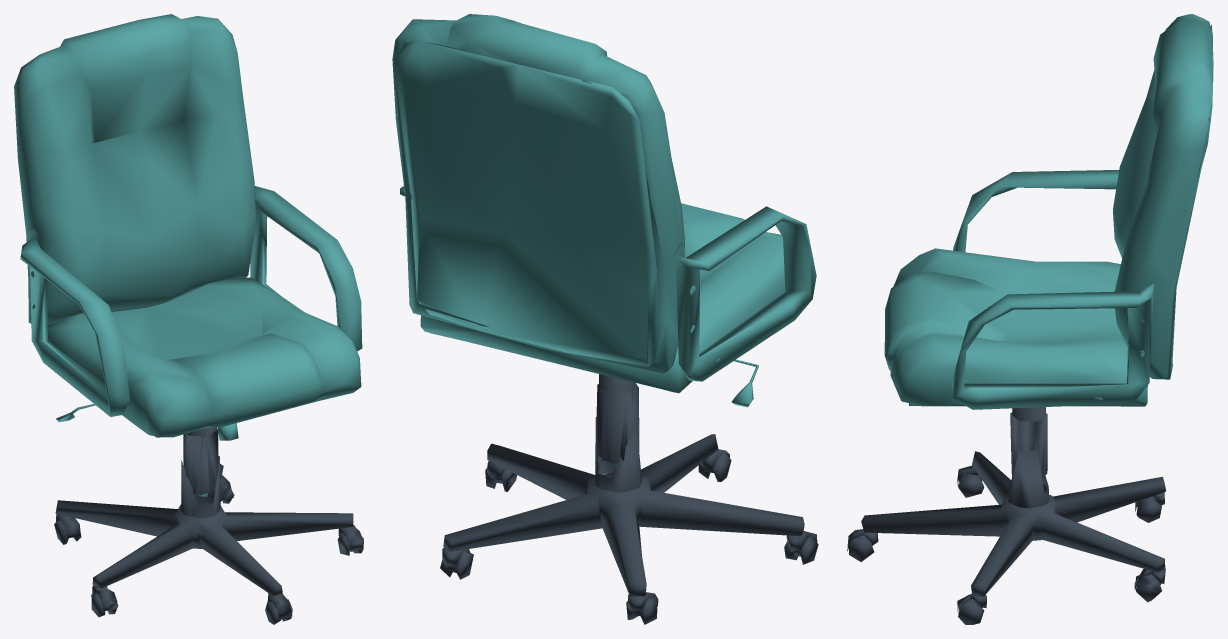
The model's file is office_chair_lod2.glb.
The picture shows the model from 3 angles, left to right: view 1: azimuth 30°, elevation 25°; view 2: azimuth 150°, elevation 25°; view 3: azimuth 270°, elevation 25°; orthographic projection. The views are drawn at different scales.
Parts seen in each view (by area): view 1: NVIDIA_OfficeChair.001; view 2: NVIDIA_OfficeChair.001; view 3: NVIDIA_OfficeChair.001.
Part boxes in pixels (x1,y1,x2,y2): NVIDIA_OfficeChair.001: (14,14,363,624); NVIDIA_OfficeChair.001: (392,14,818,624); NVIDIA_OfficeChair.001: (847,14,1213,624).
Size of the model in its own units: 0.712 by 1.25 by 0.8078.
